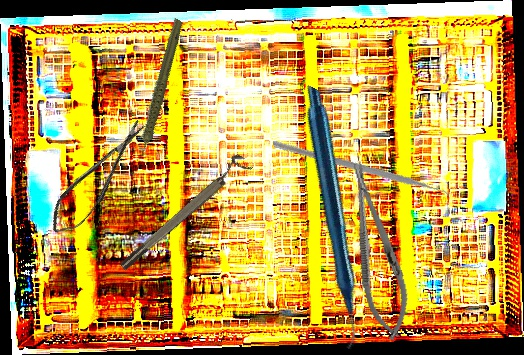Chopper: (272, 98, 453, 251)
Fixation Ring: (113, 150, 253, 274)
Handpiece: (209, 84, 450, 351), (104, 17, 211, 163)
Micro Scissor: (40, 114, 158, 242)
Needle Holder: (336, 158, 418, 344)
